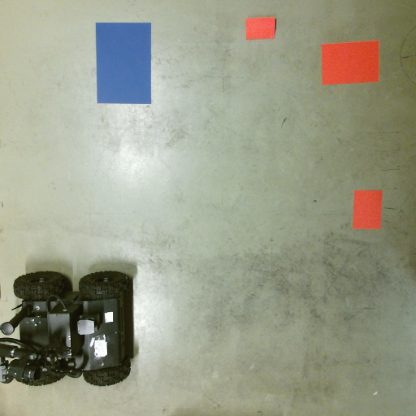Blue: (94, 21, 155, 105)
Jaguar: (0, 269, 138, 386)
Red: (321, 40, 382, 86), (351, 188, 383, 231), (243, 16, 278, 40)
